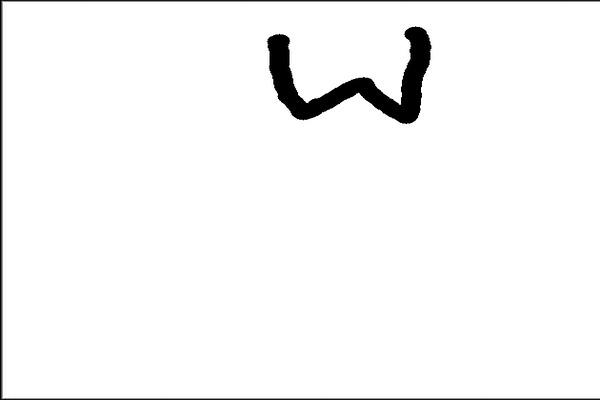w: (249, 10, 440, 144)
